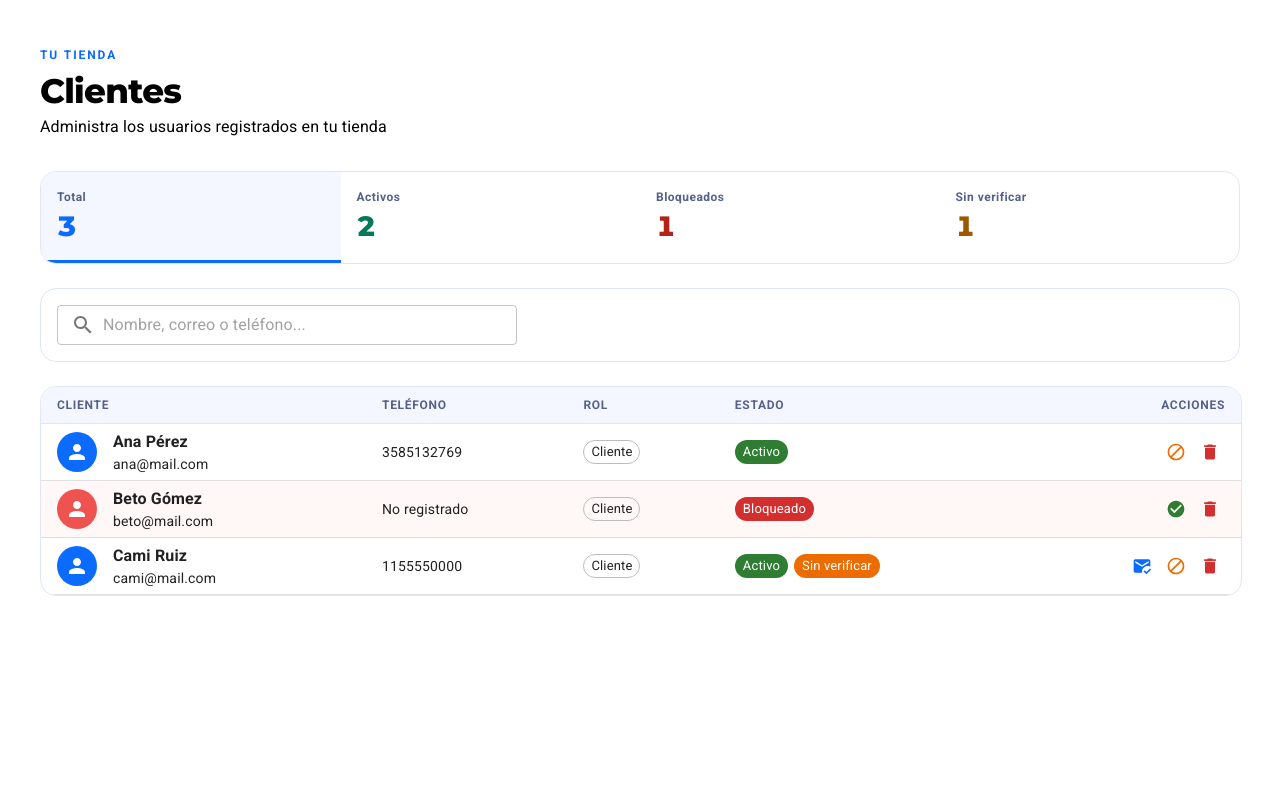
Test: Clientes · acciones › eliminar pide confirmación y recién al confirmar manda el id
Click the button with test id "DeleteIcon" at (1210, 452), box [1195,436,1225,466]
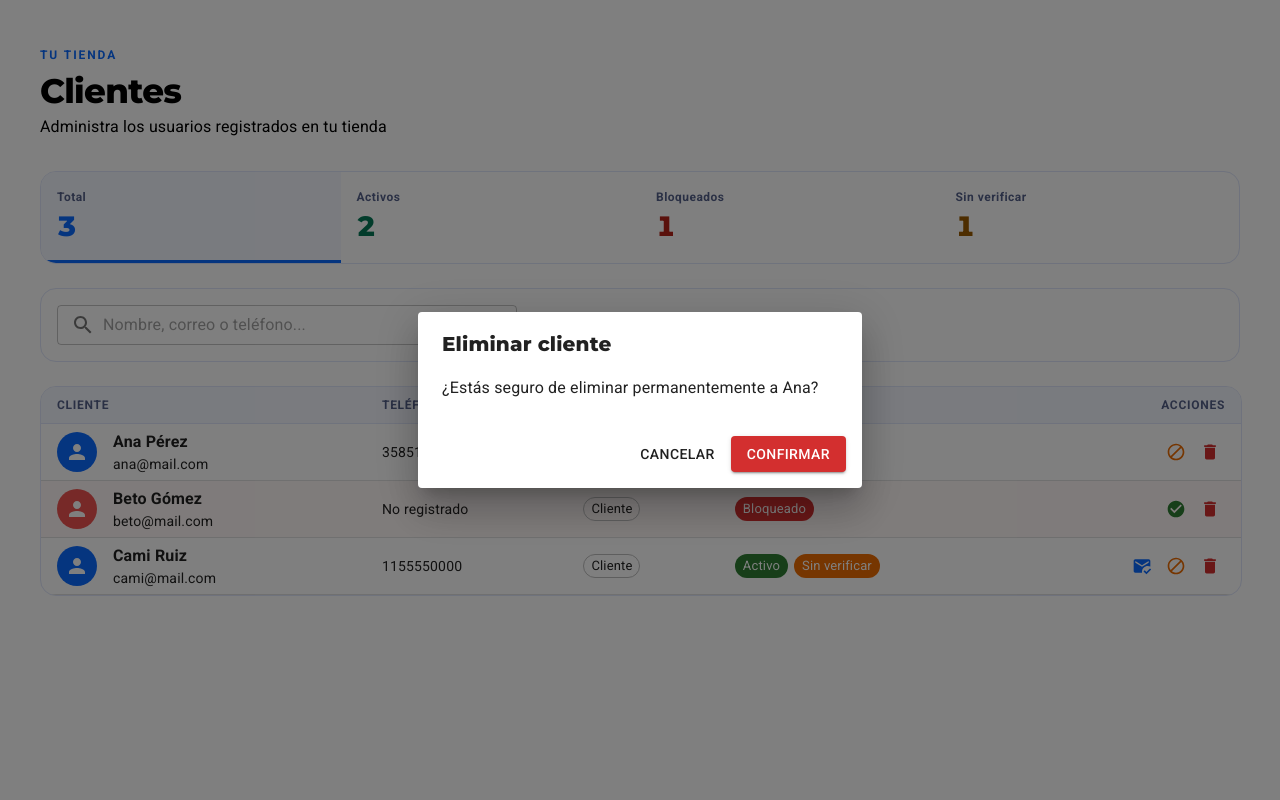
Expected: the text "¿Estás seguro de eliminar permanentemente a Ana?" is shown, [442,376,838,400]
Click the button "Confirmar" at (788, 454), box [731,436,846,472]
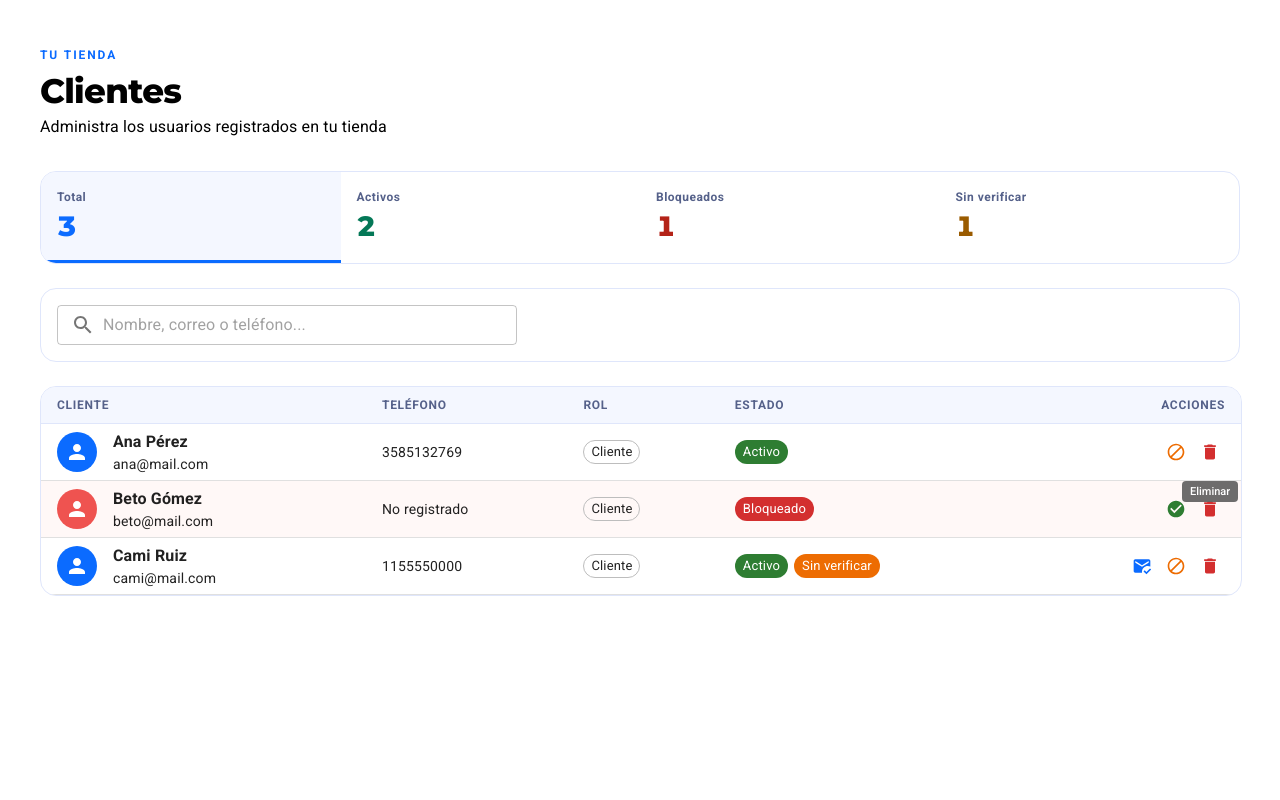
Expected: the dialog is gone
